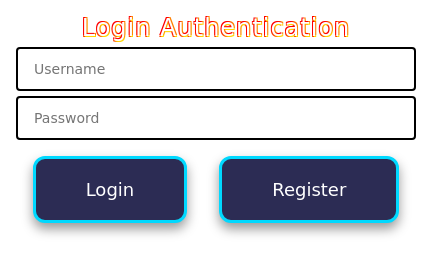
Test: Login Component › 3.2. Must be able to mock "logIn" and receive error with invalid parameters
In the field with placeholder "Username": (216, 69) [16, 47, 416, 91], type "invalidUser"
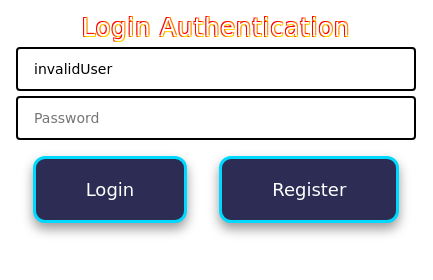
In the password field with placeholder "Password": (216, 118) [16, 96, 416, 140], type "invalidPassword"
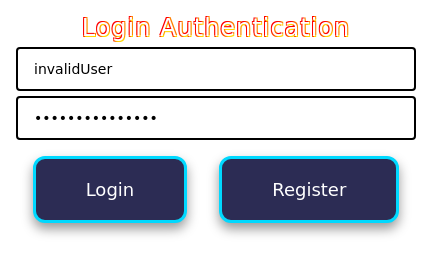
Click the text "Login": (110, 190) [33, 156, 187, 223]
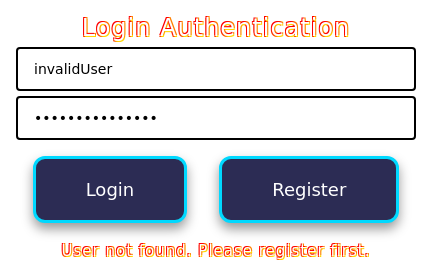
Check: the heading "User not found. Please register first." is shown, box [62, 239, 370, 263]
